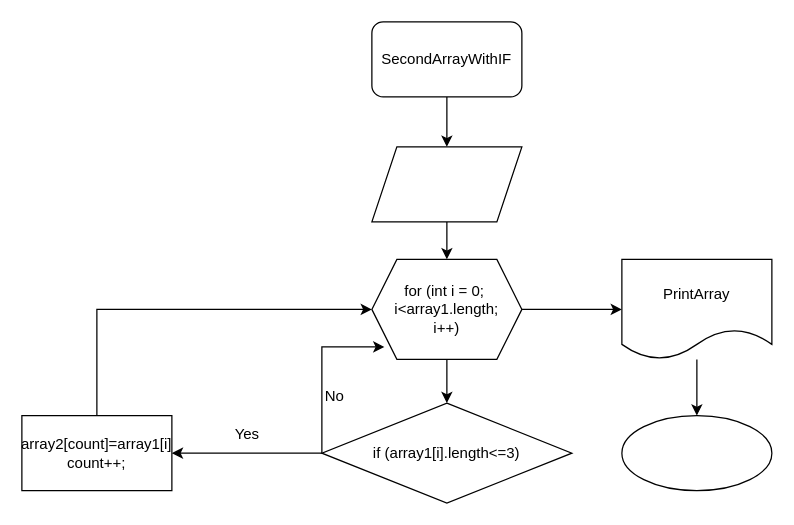
Image size: 794x525. Some labels were removed from this diagram. Here are the shapes that lost their labels. From the top down, the centre of each, then its label:
At (446,184): "string[] array1 string[] array2 int count = 0".
At (696,452): "End".
